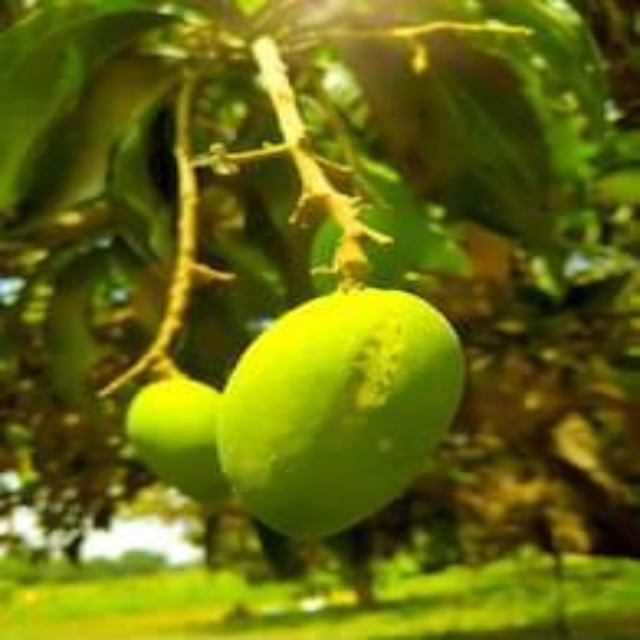mango: (216, 292, 470, 536), (93, 373, 264, 501)
